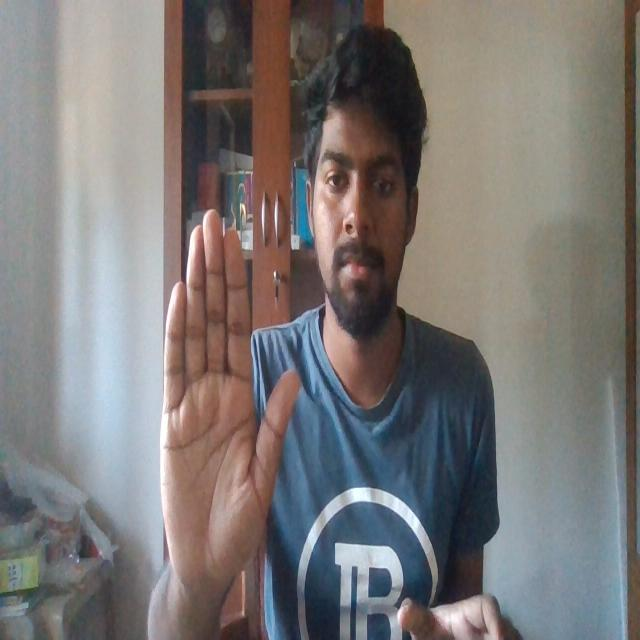Hello: (155, 203, 303, 588)
